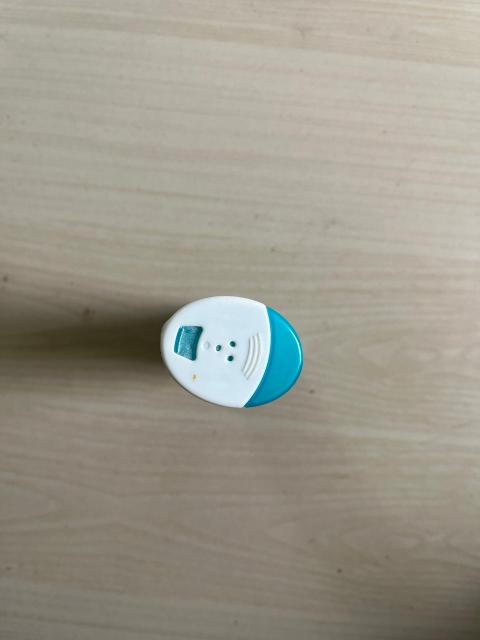boroplus: (155, 281, 304, 412)
